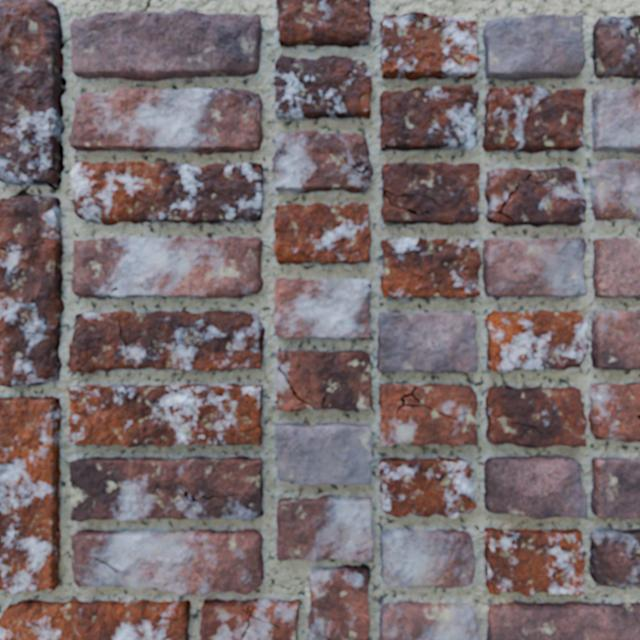crack: (0, 0, 261, 387), (69, 87, 263, 154), (71, 529, 263, 596), (380, 237, 587, 299), (69, 456, 263, 522), (67, 383, 262, 447), (67, 310, 264, 373), (71, 161, 263, 225), (0, 396, 61, 594), (71, 236, 263, 298), (0, 599, 190, 639), (484, 527, 585, 596), (482, 86, 585, 153), (482, 14, 585, 81), (379, 12, 479, 80), (484, 455, 587, 519), (276, 495, 374, 562), (380, 84, 478, 150), (485, 385, 587, 448), (485, 310, 588, 372), (273, 55, 371, 119), (272, 131, 373, 193), (381, 162, 479, 225), (377, 312, 478, 373), (275, 422, 372, 485), (379, 384, 477, 446), (485, 167, 586, 227), (274, 202, 371, 264), (274, 277, 371, 339), (378, 457, 476, 518), (486, 601, 639, 639), (276, 350, 371, 411), (380, 528, 475, 588), (307, 564, 370, 639), (275, 0, 372, 47), (199, 598, 299, 639), (379, 601, 478, 639), (591, 87, 639, 152), (588, 160, 639, 221), (588, 382, 639, 442), (592, 14, 639, 79), (591, 457, 639, 519), (589, 529, 639, 588), (590, 310, 639, 370), (593, 237, 639, 297)
